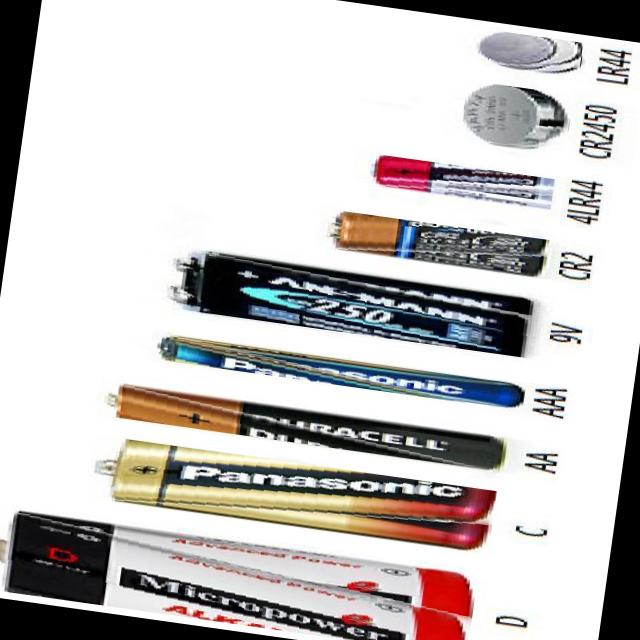Hazard: (0, 505, 480, 640), (90, 434, 497, 554), (162, 245, 537, 358), (102, 380, 510, 471), (155, 332, 524, 409), (324, 208, 552, 279), (367, 152, 556, 210), (460, 80, 574, 154), (472, 27, 584, 78)
